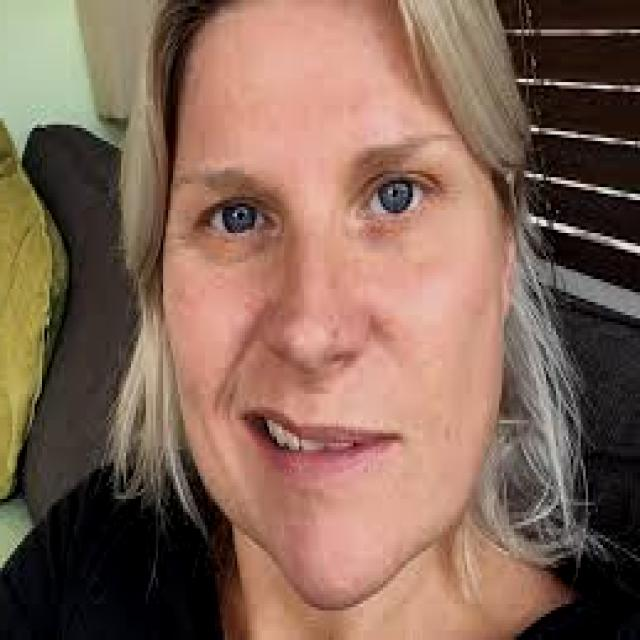stroke_face: (180, 0, 509, 610)
